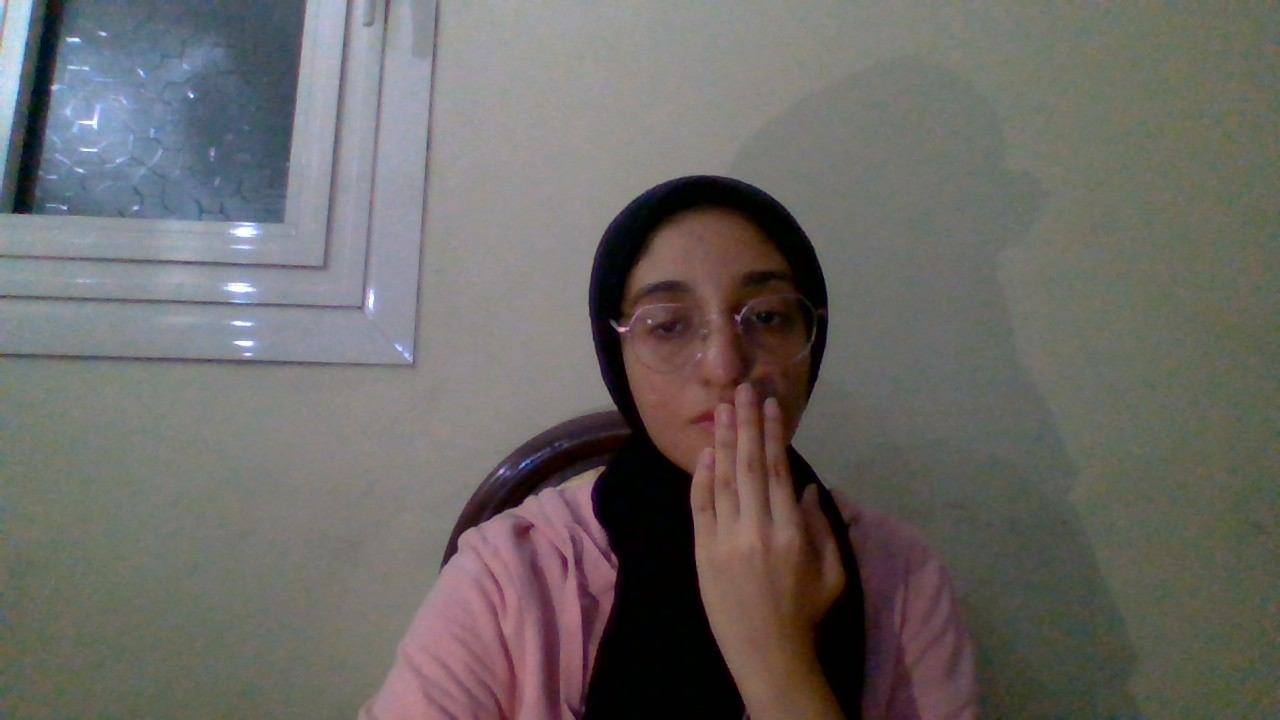thankyou: (641, 362, 927, 644)
